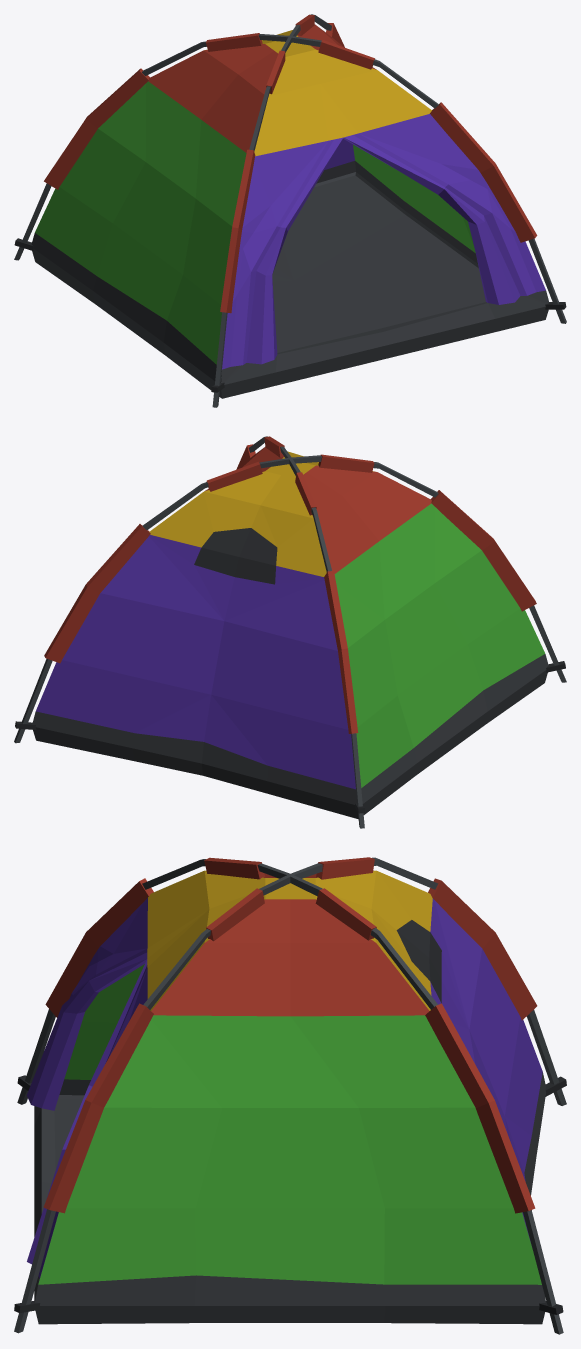
File: tent.glb
The picture shows the model from 3 angles, top to bottom: view 1: azimuth 30°, elevation 25°; view 2: azimuth 150°, elevation 25°; view 3: azimuth 270°, elevation 25°; orthographic projection. The views are drawn at different scales.
Parts seen in each view (by area): view 1: tent; view 2: tent; view 3: tent.
Part boxes in pixels (x1=…): tent: x1=14, y1=14, x2=566, y2=407; tent: x1=14, y1=436, x2=566, y2=828; tent: x1=14, y1=857, x2=566, y2=1334.
Bounding box in the file's own units: 1.65 × 1.13 × 1.65.
Materials: 1 (1 with a texture image).
